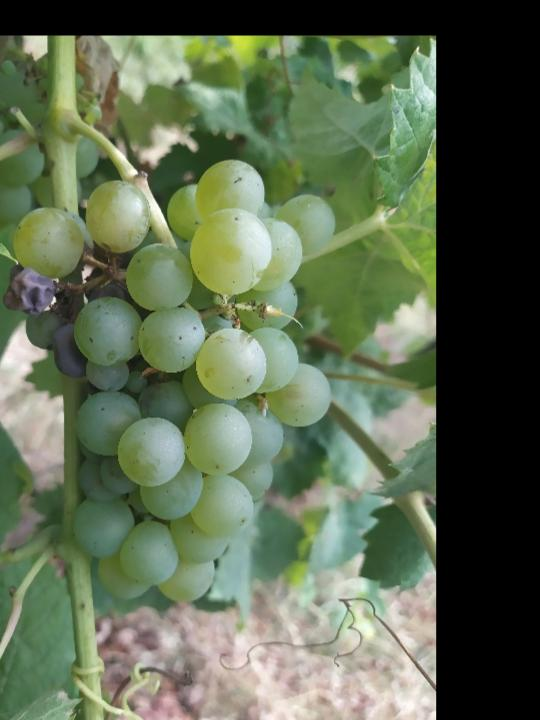grape: (9, 156, 338, 606)
